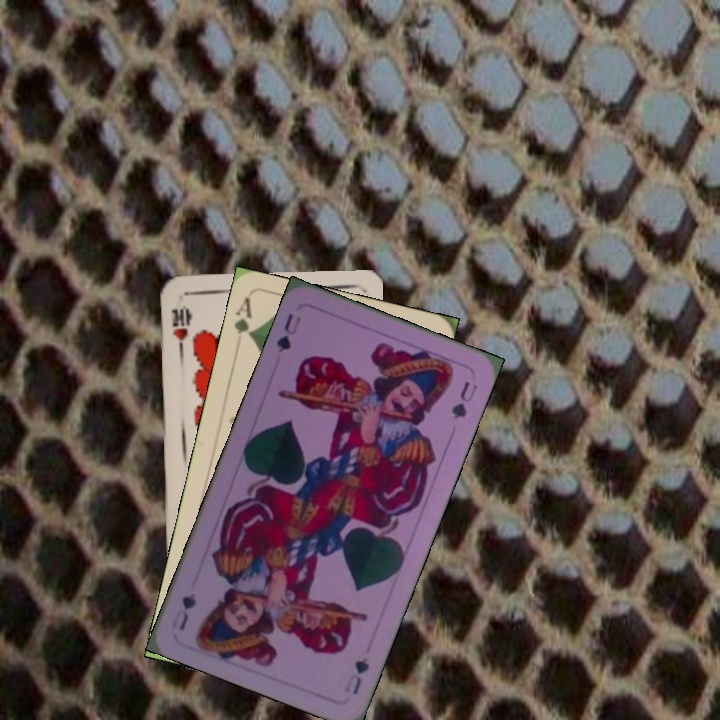GA: (230, 294, 256, 341)
GU: (272, 309, 304, 355), (340, 653, 372, 698)
H10: (168, 302, 192, 356)
